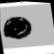correct: (1, 12, 32, 42)
